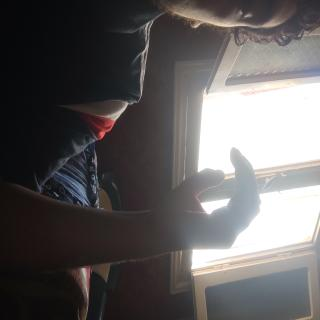JEEM: (106, 72, 200, 212)
